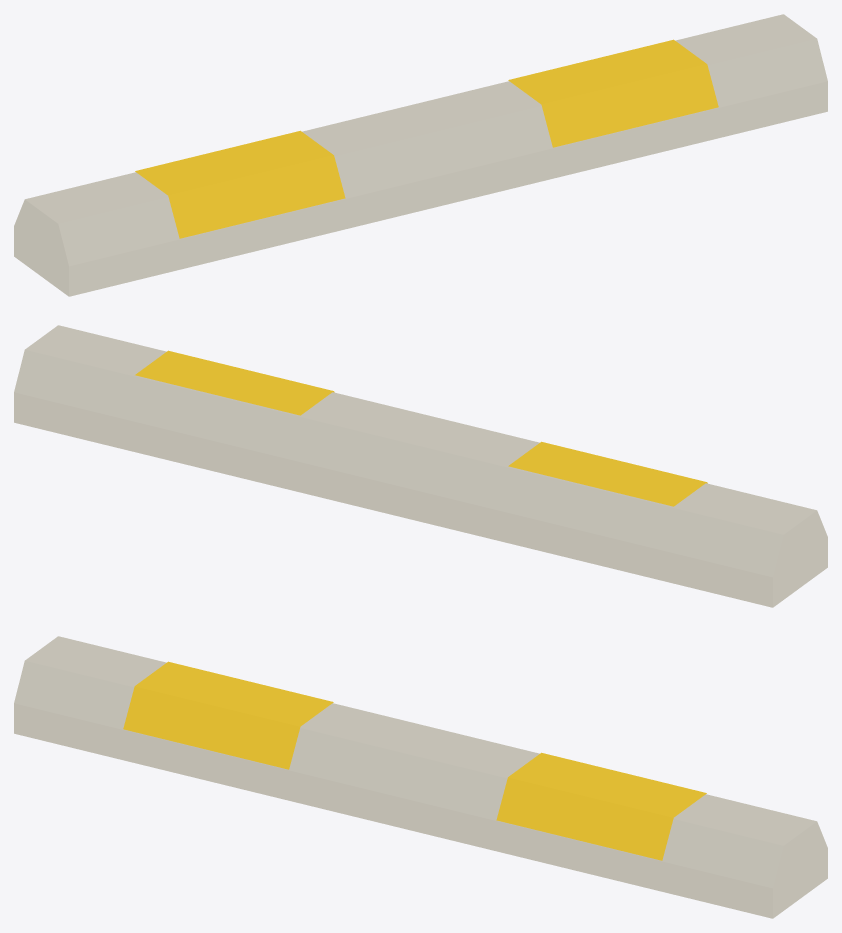
Rendered from Blender_WheelStop_1.glb.
The picture shows the model from 3 angles, top to bottom: view 1: azimuth 30°, elevation 25°; view 2: azimuth 150°, elevation 25°; view 3: azimuth 330°, elevation 25°; orthographic projection.
Visible parts, largest first — view 1: Blender_WheelStop_1; view 2: Blender_WheelStop_1; view 3: Blender_WheelStop_1.
Boxes of the visible parts, box(x1,y1,x2,y2) form: Blender_WheelStop_1: box(14, 14, 827, 296); Blender_WheelStop_1: box(14, 325, 827, 607); Blender_WheelStop_1: box(14, 636, 827, 918).
Bounding box in the file's own units: 1.83 × 0.153 × 0.233.
